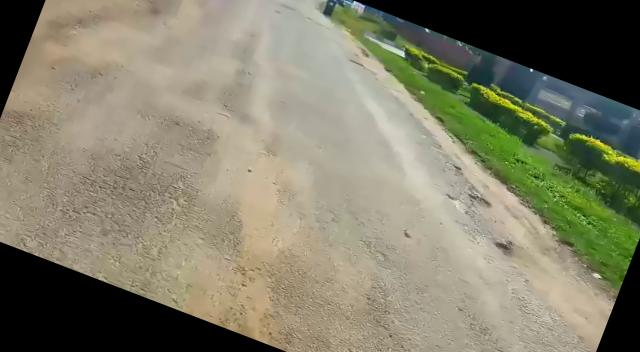pothole: (463, 190, 498, 212)
